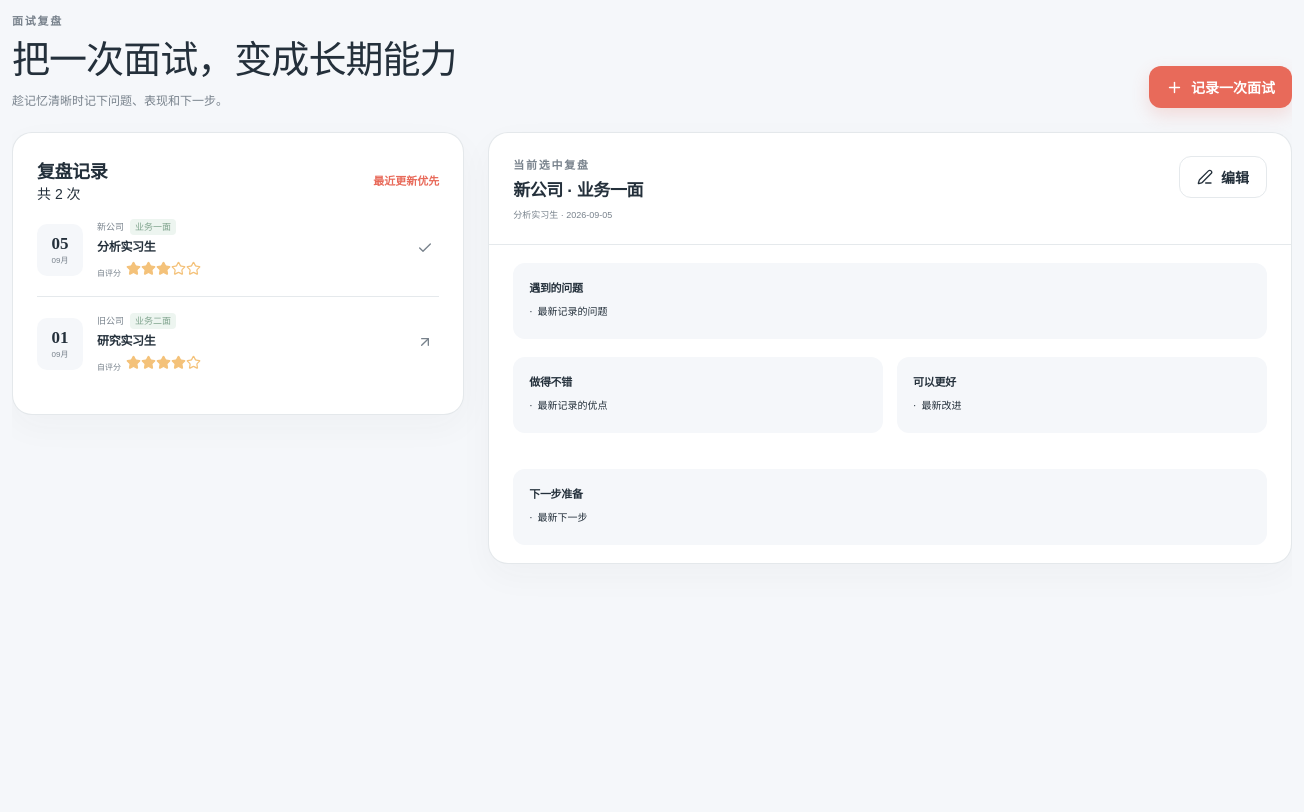
Scenario: select and edit historical interview reviews › opens either record and shows the selected record rather than always the latest one
Expected: the text "最新记录的问题" is shown, [538,306,608,317]
Click the button named "查看 旧公司".
click(425, 344)  # box [411,329,439,358]
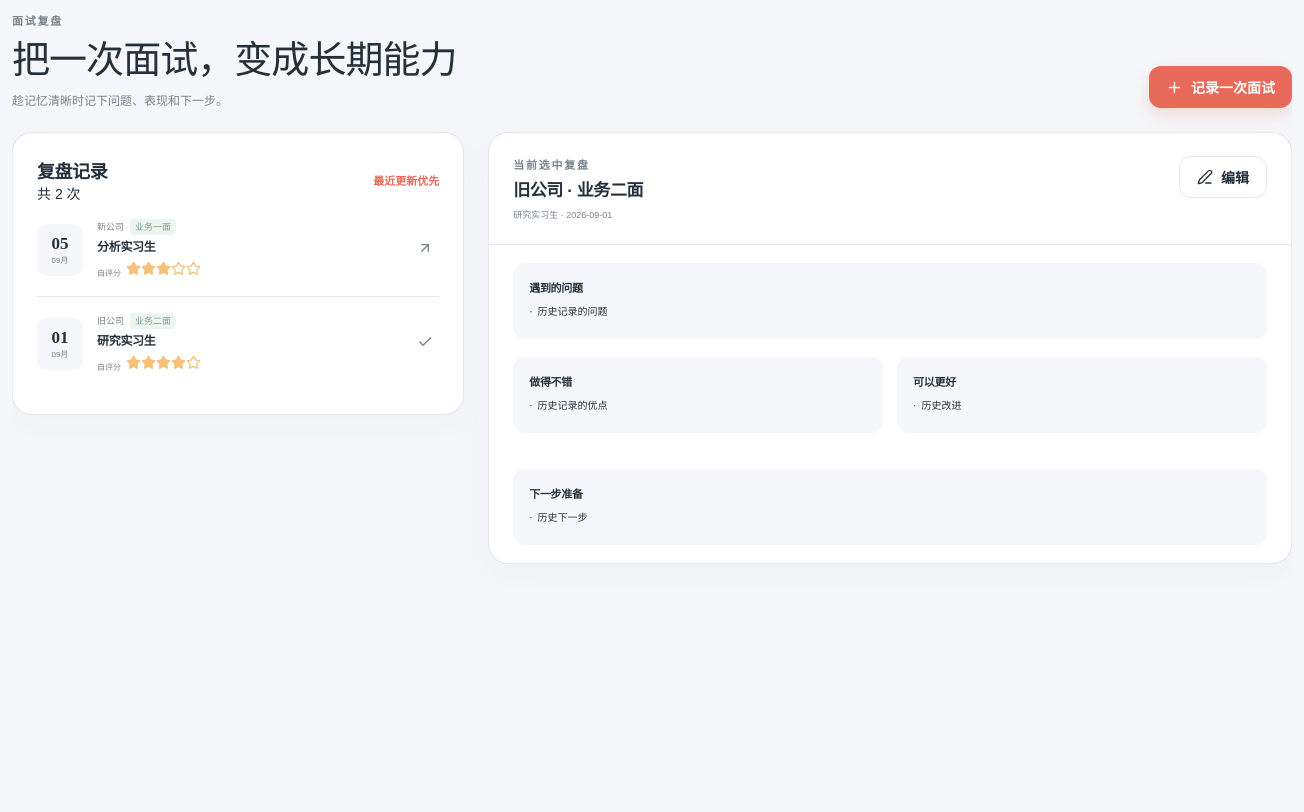
Result: the text "历史记录的问题" is shown at [538,306,608,317]
Click the button named "查看 新公司".
click(425, 250)  # box [411,235,439,264]
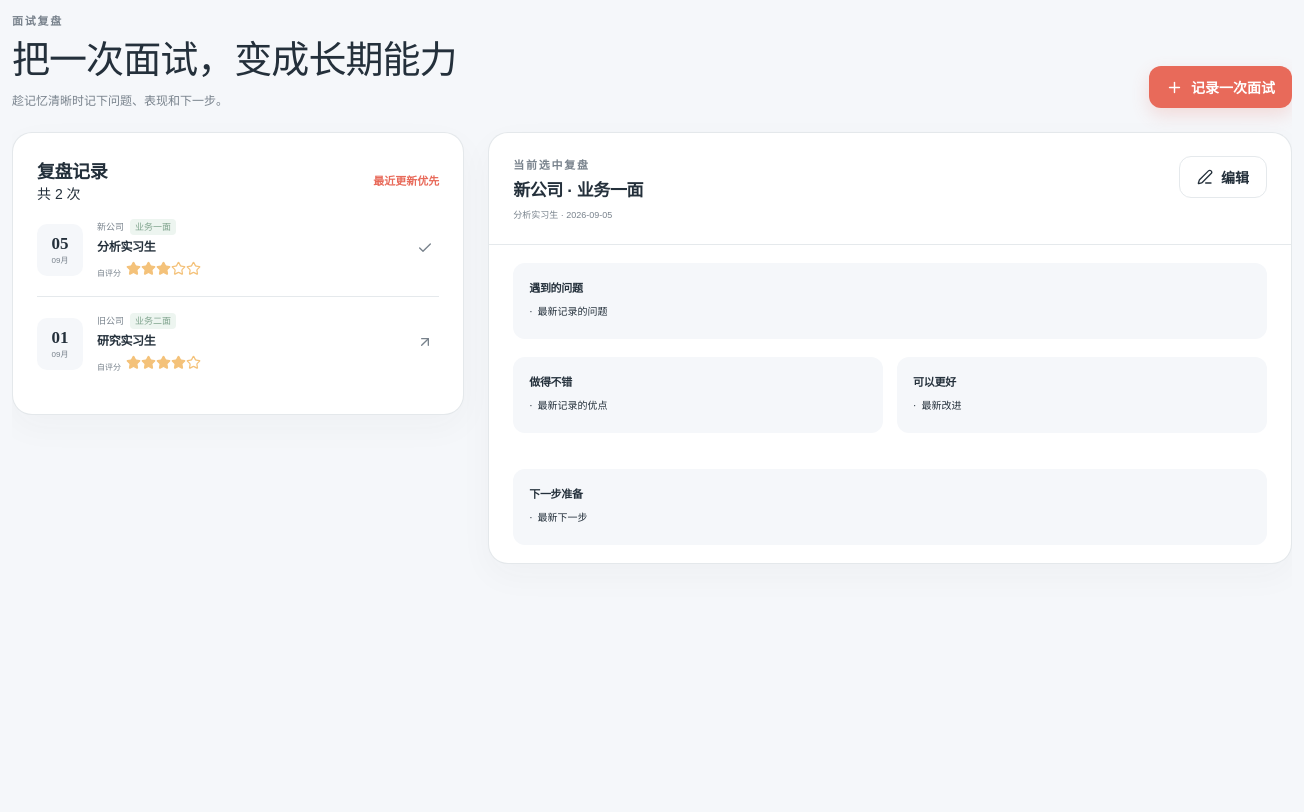
Result: the text "最新记录的问题" is shown at [538,306,608,317]
